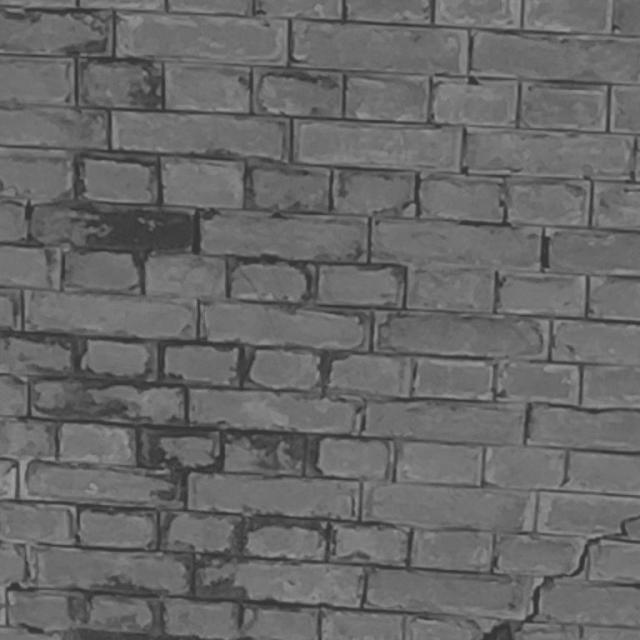crack: (483, 515, 639, 640)
